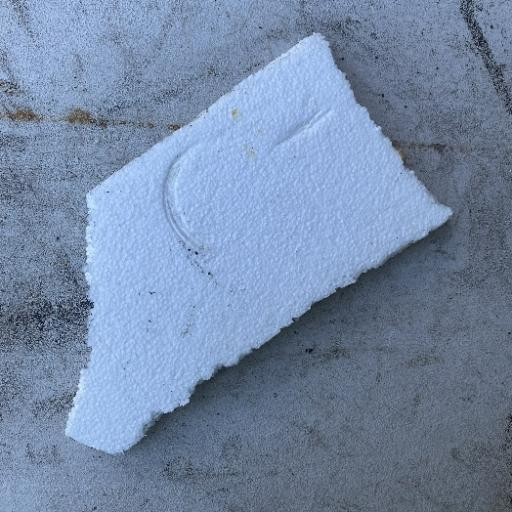Plastic: (62, 32, 454, 456)
